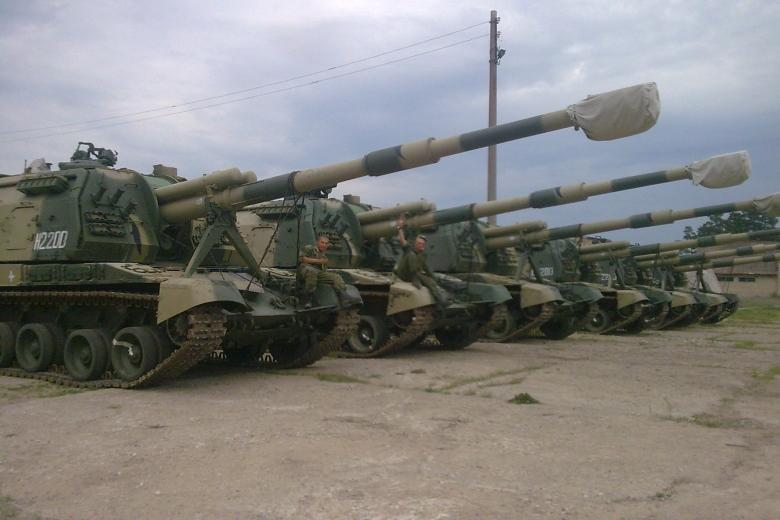sau: (4, 90, 677, 397), (353, 172, 731, 358), (476, 183, 780, 373)
